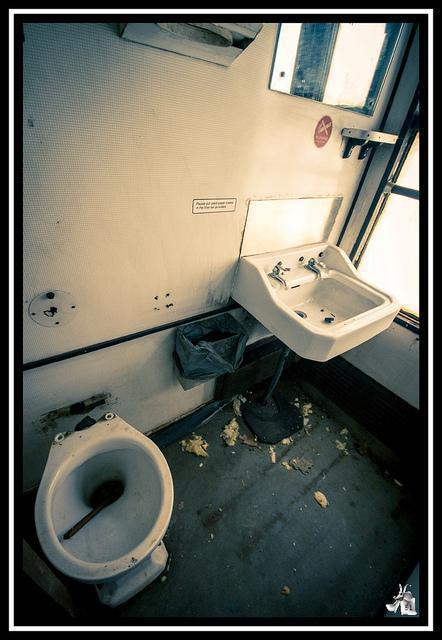Bote de Basura: (162, 309, 248, 387)
Lavamanos: (240, 248, 398, 450)
Sanitario: (36, 399, 183, 598)
